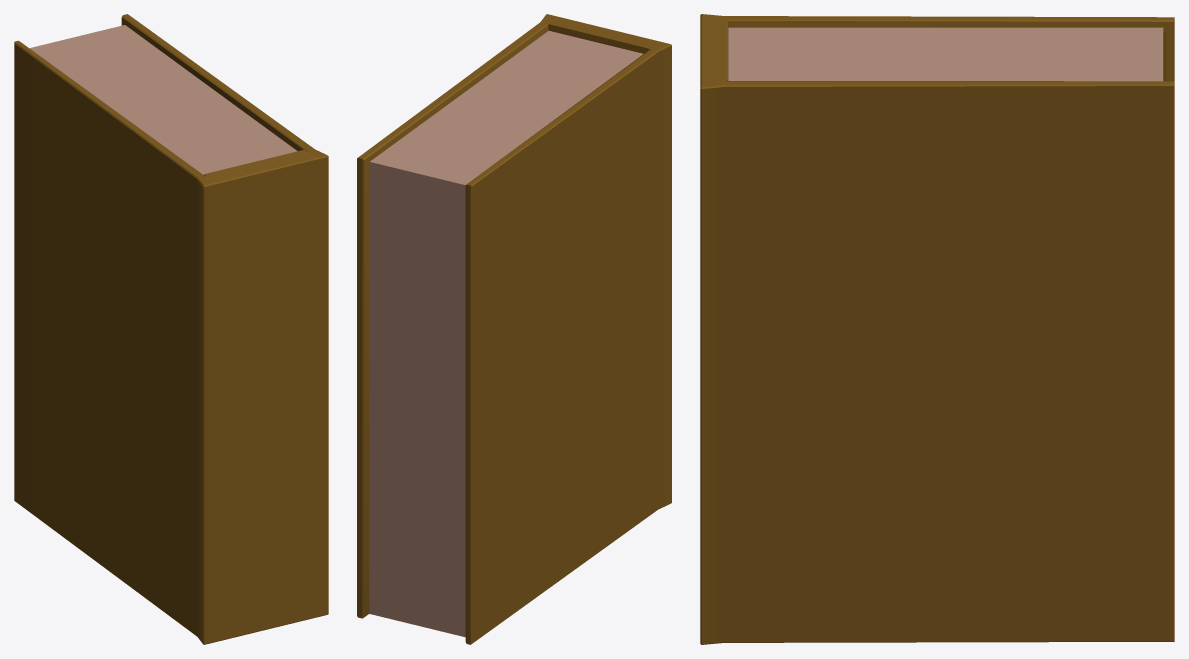
Rendered from book2.fbx.
The picture shows the model from 3 angles, left to right: view 1: azimuth 30°, elevation 25°; view 2: azimuth 150°, elevation 25°; view 3: azimuth 270°, elevation 25°; orthographic projection. The views are drawn at different scales.
Visible parts, largest first — view 1: pCube36, pCube37; view 2: pCube36, pCube37; view 3: pCube36, pCube37.
Part boxes in pixels (bbox=[...]): pCube36: bbox=[14, 14, 328, 644]; pCube37: bbox=[29, 25, 297, 174]; pCube36: bbox=[357, 14, 671, 644]; pCube37: bbox=[369, 31, 643, 637]; pCube36: bbox=[700, 14, 1174, 644]; pCube37: bbox=[728, 27, 1163, 81].
Bounding box in the file's own units: 0.7153 × 2.51 × 1.93.
